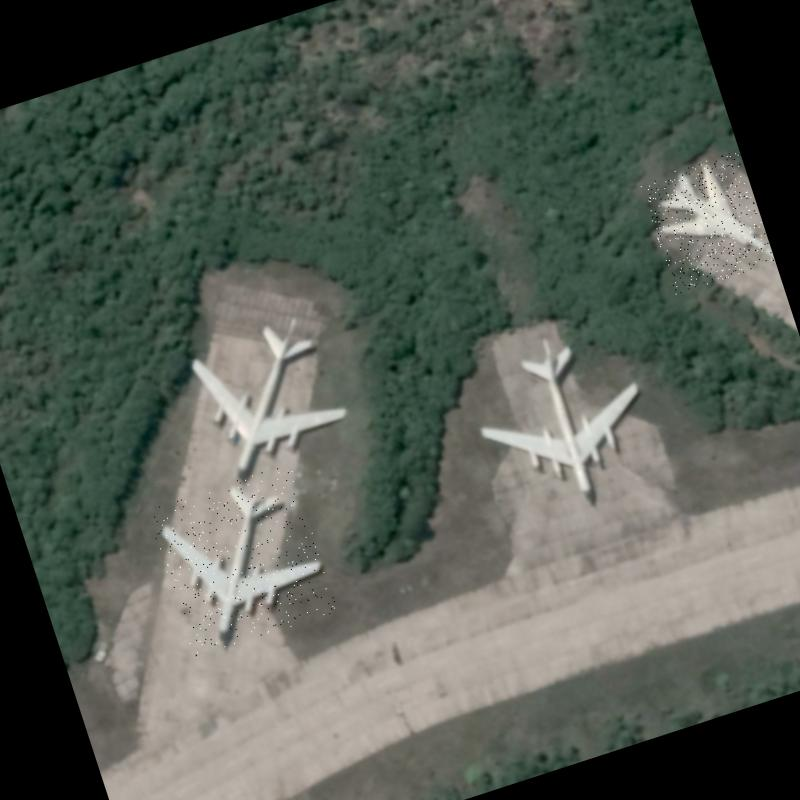A12: (640, 150, 774, 294)
A17: (451, 311, 674, 536), (146, 463, 338, 658), (176, 304, 362, 490)
